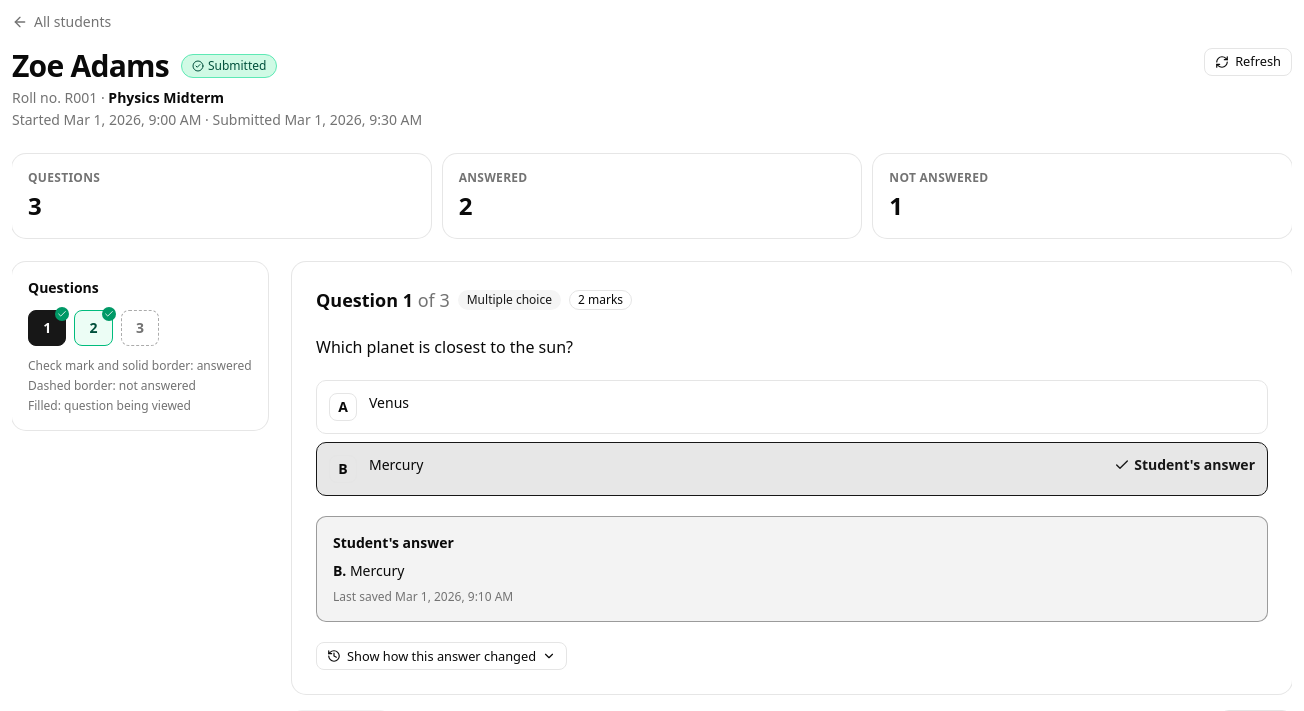
StudentResponseReview with recordings › tells the reviewer how a TYPED answer came to be
expect the text "Which planet is closest to the sun?" is shown: met, box [316,336,573,358]
Step 1. Click the button named "Question 2" → (94, 328), box [74,310,113,346]
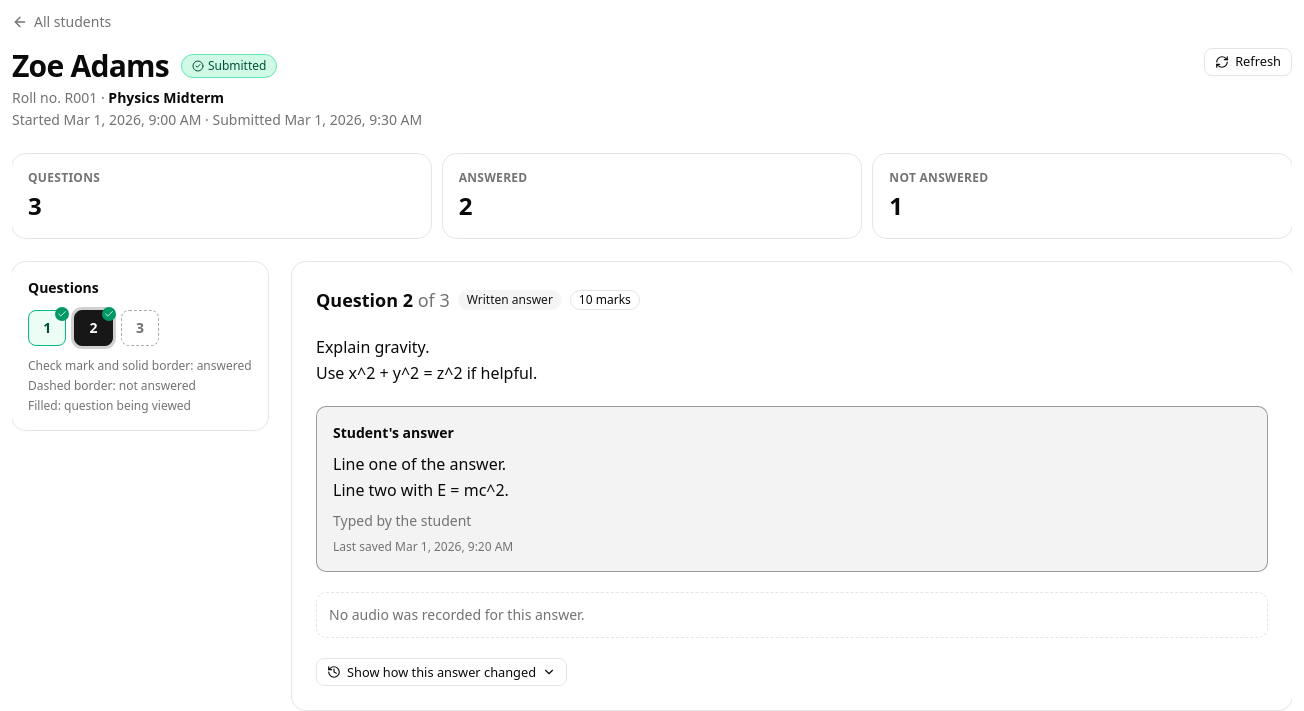
expect the text with test id "answer-source" reads "Typed by the student": met, box [333,511,471,530]
